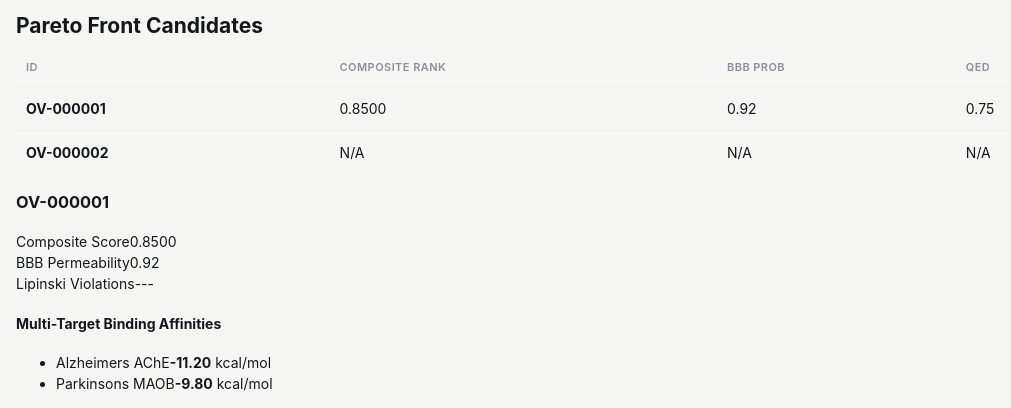
it: App Dashboard Integration › handles empty target_scores gracefully
The image size is (1011, 408).
Step 1. Click the text "OV-000002" → (67, 152), box [26,144,108,161]
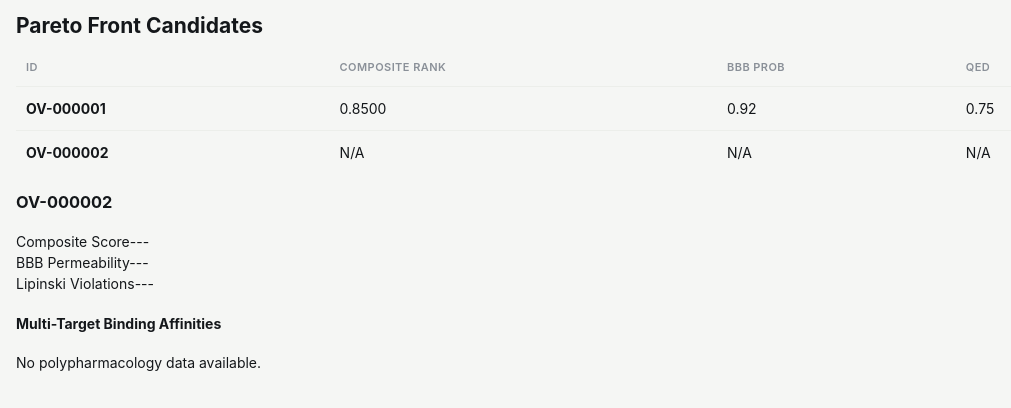
expect the text "No polypharmacology data available." is shown: met, box [16,354,261,371]
